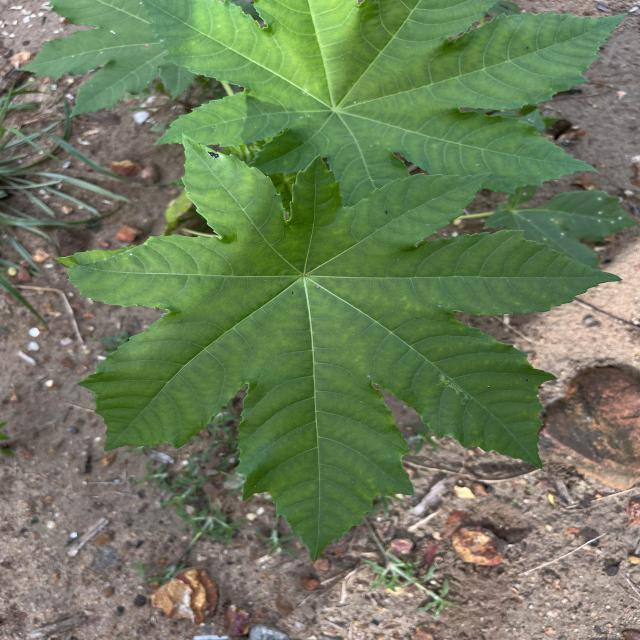Ricinus communis linn: (43, 125, 624, 570)
